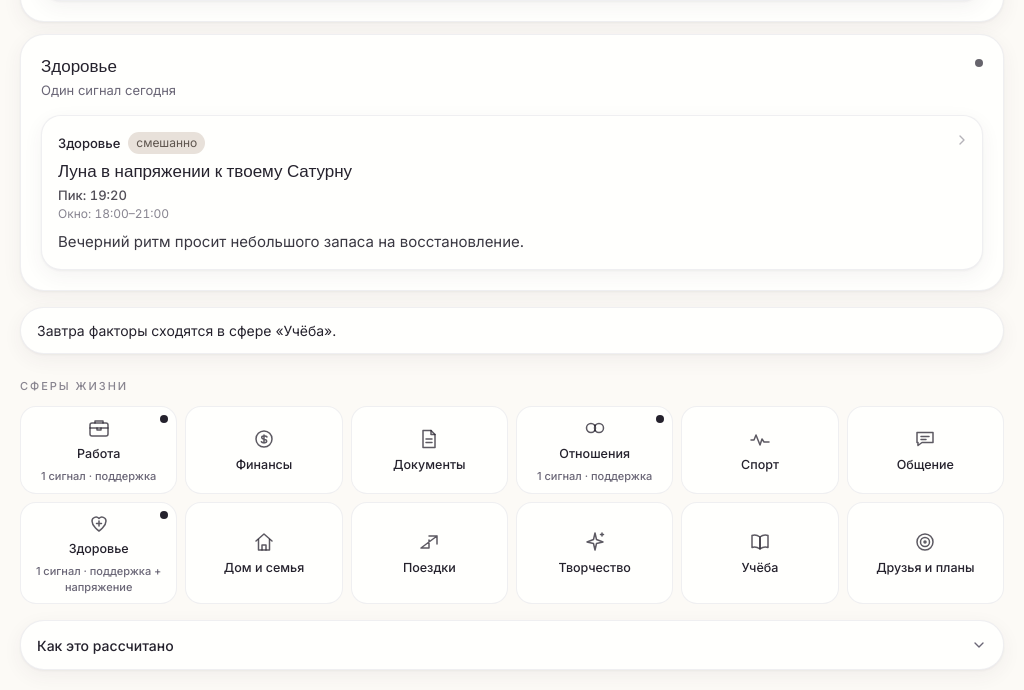
Today Convergence public time and access projections › opens an empty sphere tile with an explicit empty-state block
The image size is (1024, 690).
(page scrolled)
Click the button with test id "sphere-tile-friends_goals". click: click(925, 553)
box: x1=847 y1=502 x2=1004 y2=604
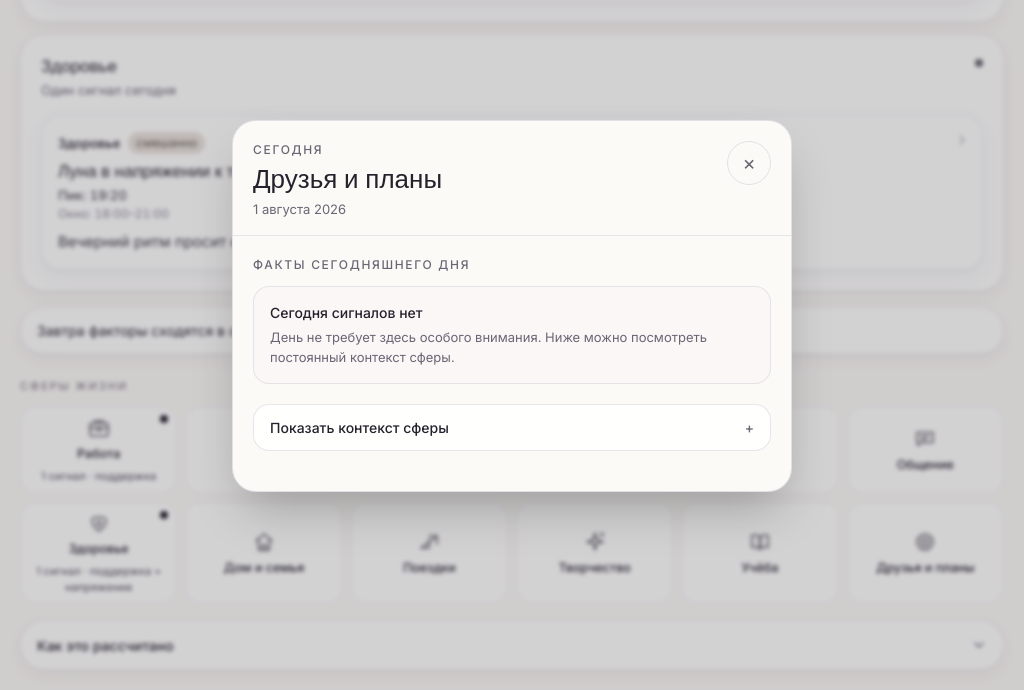
Expected: the element with test id "impulse-drilldown-empty" shows "Сегодня сигналов нет", x1=270 y1=304 x2=422 y2=321
